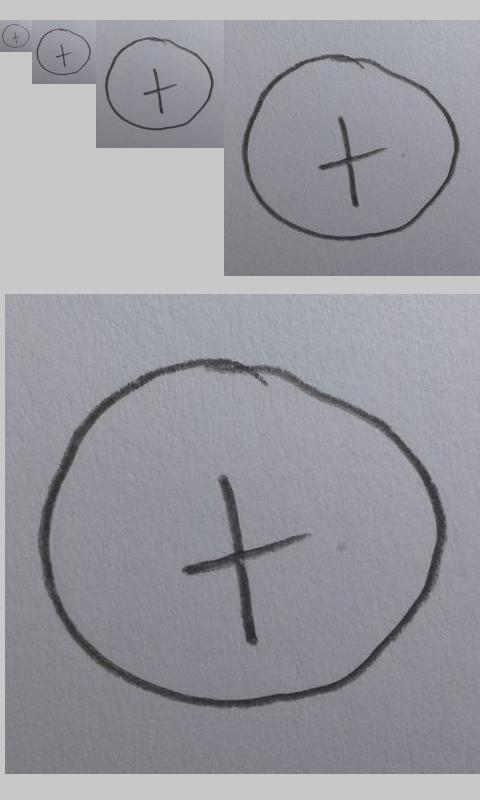button: (37, 356, 448, 709), (242, 54, 460, 242), (105, 37, 215, 131), (36, 28, 91, 75), (1, 23, 30, 48)
